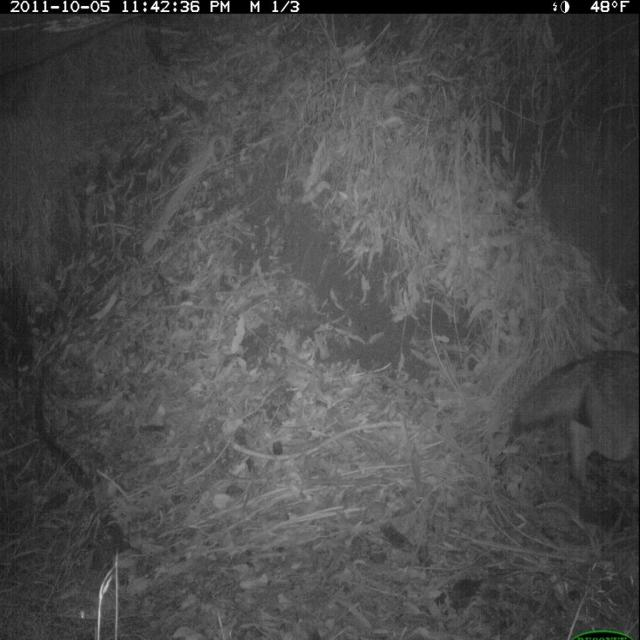coyote: (499, 325, 638, 521)
